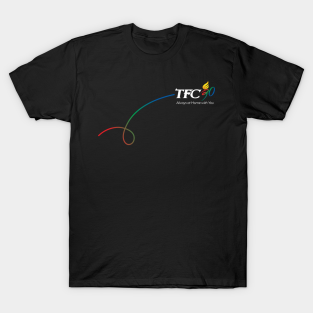design: (95, 79, 217, 147)
